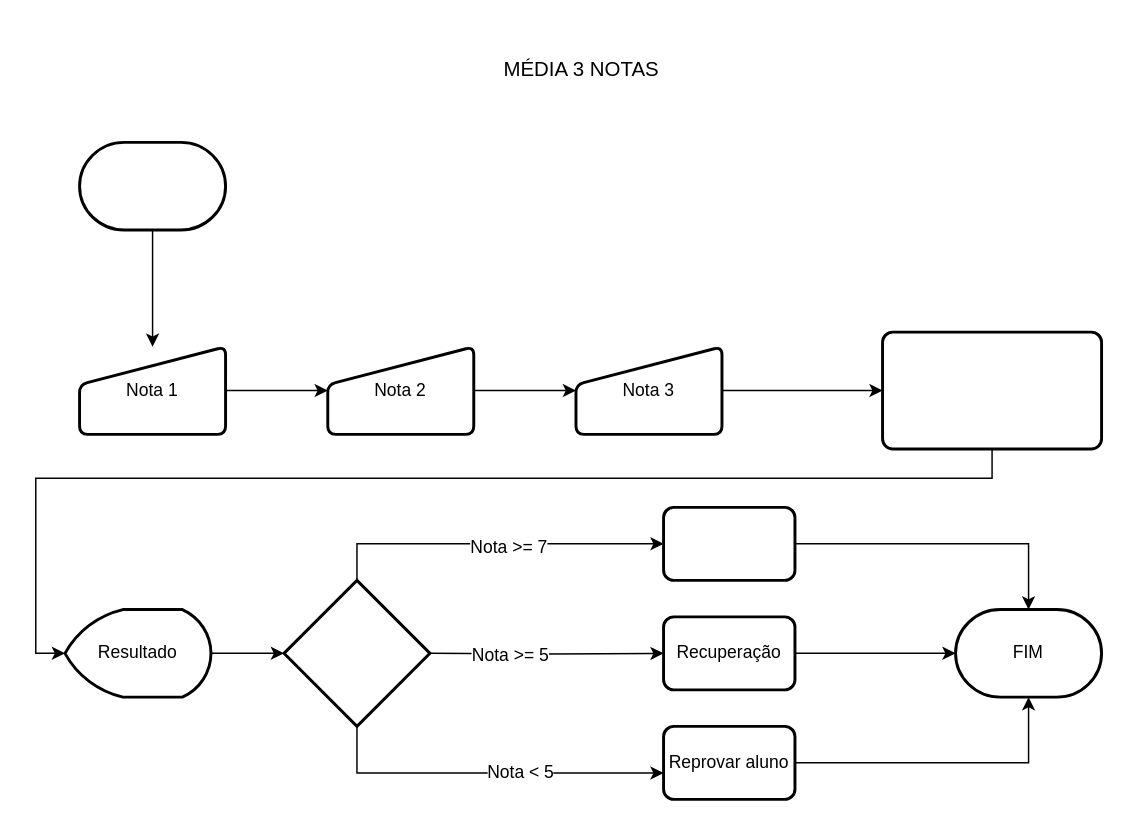
This 1129x825 diagram has some shape labels left out. The box of each missing label's shape, as (x1, y1, x2, y2) in pixels:
(Nota 1 + Nota 2 + Nota 3) / 3: (880, 330, 1102, 450)
Aprovar aluno: (661, 505, 796, 581)
INÍCIO: (77, 140, 226, 231)
Resultado da média entre as 3 notas é: (282, 578, 431, 727)
